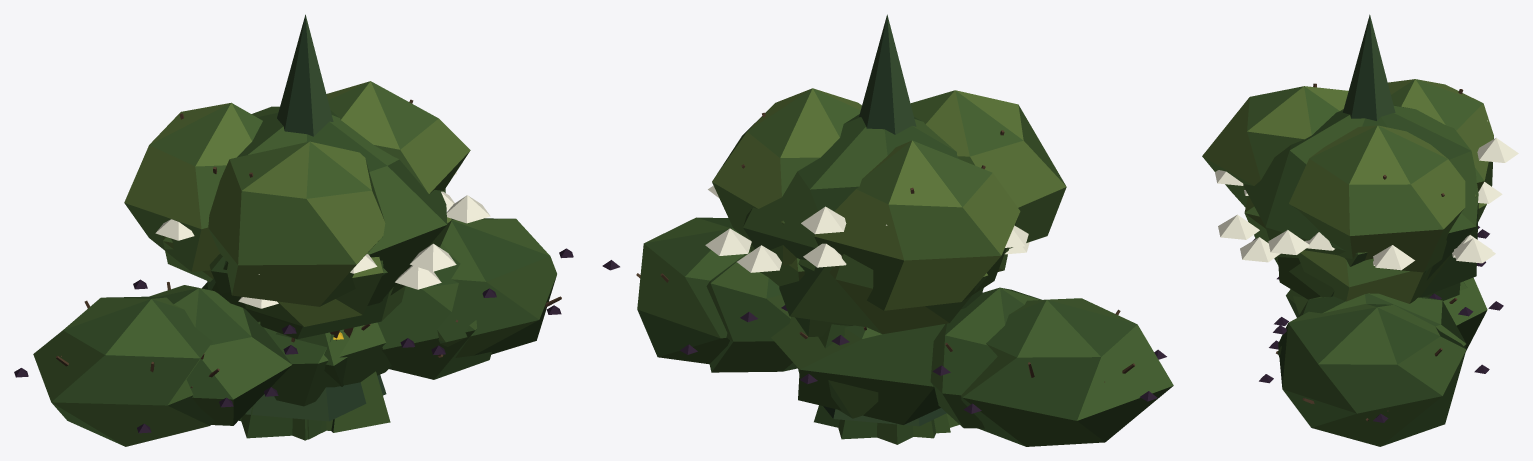
File: natur_buesche.glb
The picture shows the model from 3 angles, left to right: view 1: azimuth 30°, elevation 25°; view 2: azimuth 150°, elevation 25°; view 3: azimuth 270°, elevation 25°; orthographic projection. The views are drawn at different scales.
Visible parts, largest first — view 1: Hasel1, Brombeere1, Brombeere2, Holunder1, Wacholder1, Holunder2, Hasel2, Ginster1; view 2: Brombeere1, Hasel1, Brombeere2, Holunder1, Hasel2, Wacholder1, Holunder2, Ginster1, Ginster2; view 3: Hasel1, Brombeere1, Holunder1, Hasel2, Brombeere2, Wacholder1, Holunder2.
Boxes of the visible parts, <box> form: Hasel1: <box>124,81,470,340</box>; Brombeere1: <box>14,218,573,446</box>; Brombeere2: <box>133,243,496,425</box>; Holunder1: <box>155,106,490,325</box>; Wacholder1: <box>245,14,386,421</box>; Holunder2: <box>209,191,454,339</box>; Hasel2: <box>163,217,451,337</box>; Ginster1: <box>241,332,390,440</box>; Brombeere1: <box>602,217,1173,446</box>; Hasel1: <box>712,88,1066,310</box>; Brombeere2: <box>706,250,1041,428</box>; Holunder1: <box>705,114,1028,326</box>; Hasel2: <box>750,244,1008,334</box>; Wacholder1: <box>823,14,946,426</box>; Holunder2: <box>737,242,1029,336</box>; Ginster1: <box>814,405,959,444</box>; Ginster2: <box>838,413,950,439</box>; Hasel1: <box>1202,79,1493,272</box>; Brombeere1: <box>1259,229,1489,446</box>; Holunder1: <box>1215,105,1518,297</box>; Hasel2: <box>1244,196,1486,303</box>; Brombeere2: <box>1253,226,1503,356</box>; Wacholder1: <box>1343,14,1395,120</box>; Holunder2: <box>1240,182,1502,300</box>.
Size of the model in its own units: 4.12 by 2.82 by 2.22.
